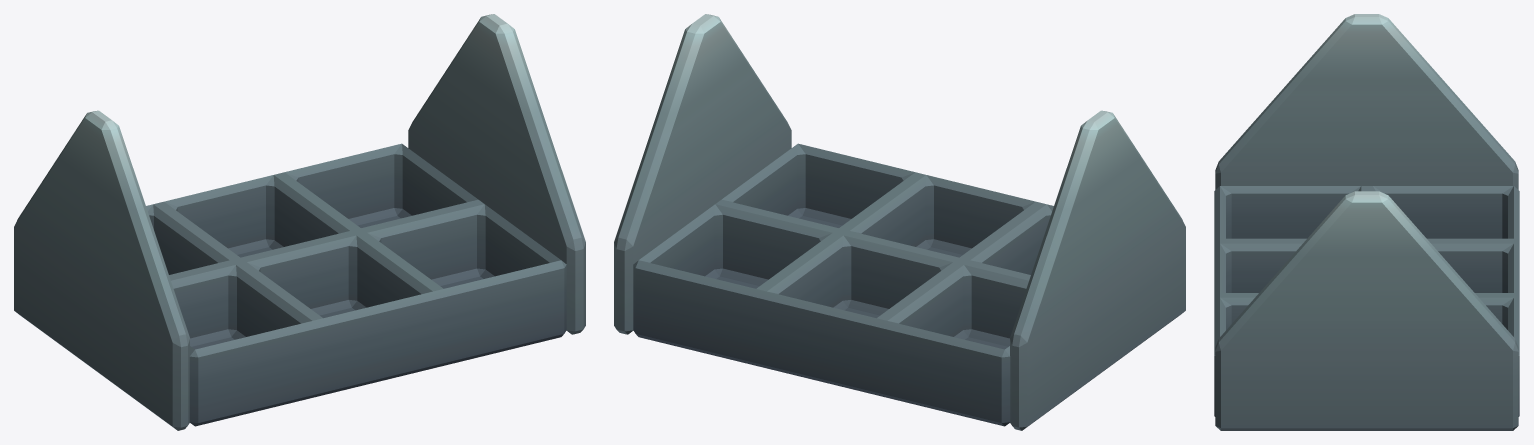
The model's file is MilkCase.fbx.
3 renders of one model, left to right at view 1: azimuth 30°, elevation 25°; view 2: azimuth 150°, elevation 25°; view 3: azimuth 270°, elevation 25°, orthographic. The views are drawn at different scales.
Parts seen in each view (by area): view 1: Cube.022; view 2: Cube.022; view 3: Cube.022.
Part boxes in pixels (<box>): Cube.022: <box>14,14,585,430</box>; Cube.022: <box>614,14,1185,430</box>; Cube.022: <box>1214,14,1519,430</box>.
Size of the model in its own units: 0.5053 by 0.2991 by 0.3507.
